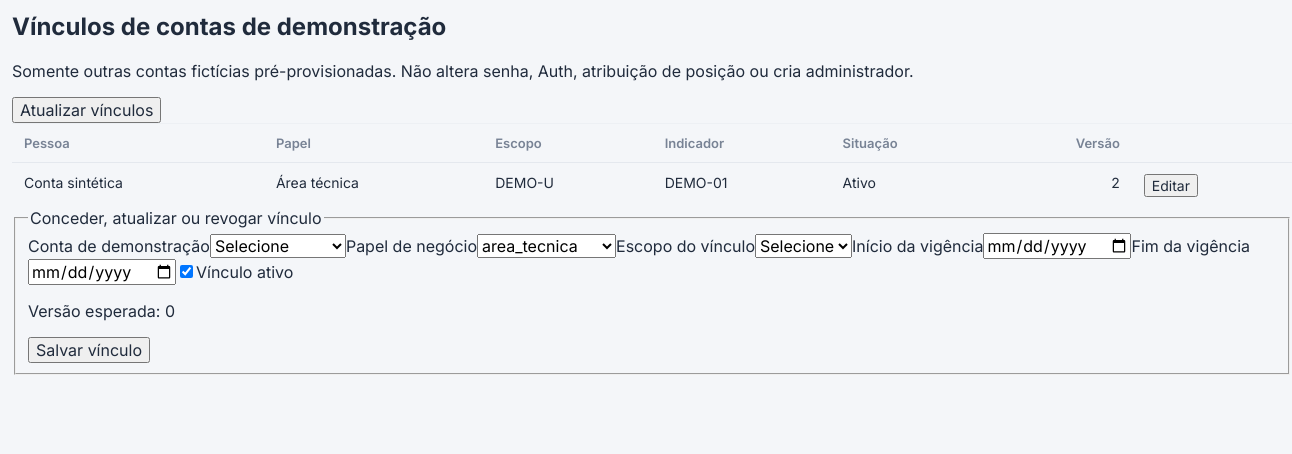
Test: administrative metadata boundary › preserves a revoked ambiguous link attempt, payload and version on retry
The width and height of the screenshot is (1292, 454).
What coordinates should you click on to do the following:
click the button named "Editar vínculo Conta sintética · area_tecnica · DEMO-U"
I would click on:
 (1171, 185)
Its box is [1144, 174, 1198, 197].
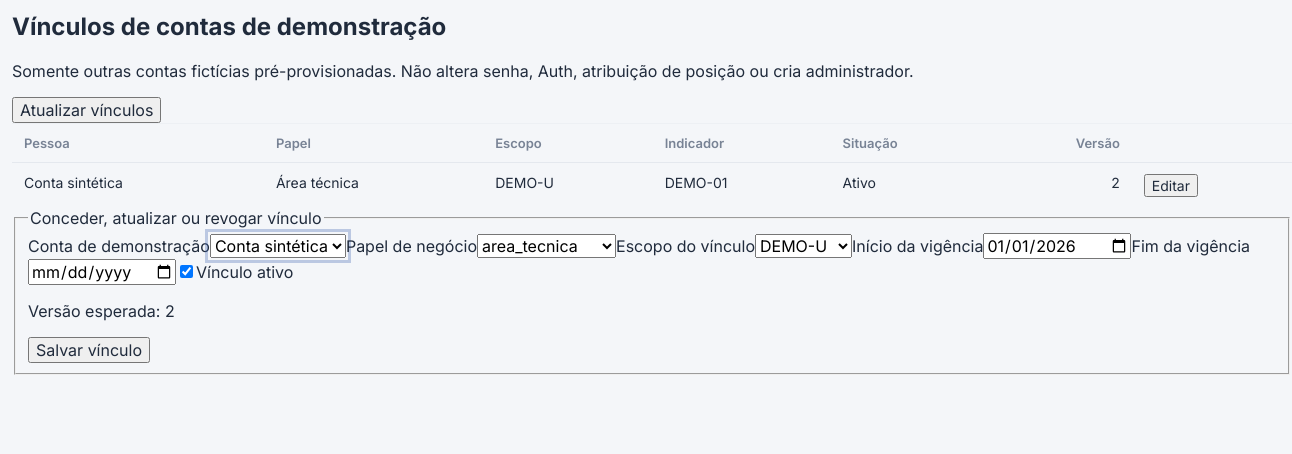
What coordinates should you click on to do the following:
click the checkbox labelled "Vínculo ativo"
I would click on:
 (186, 272)
Its box is [180, 265, 193, 278].
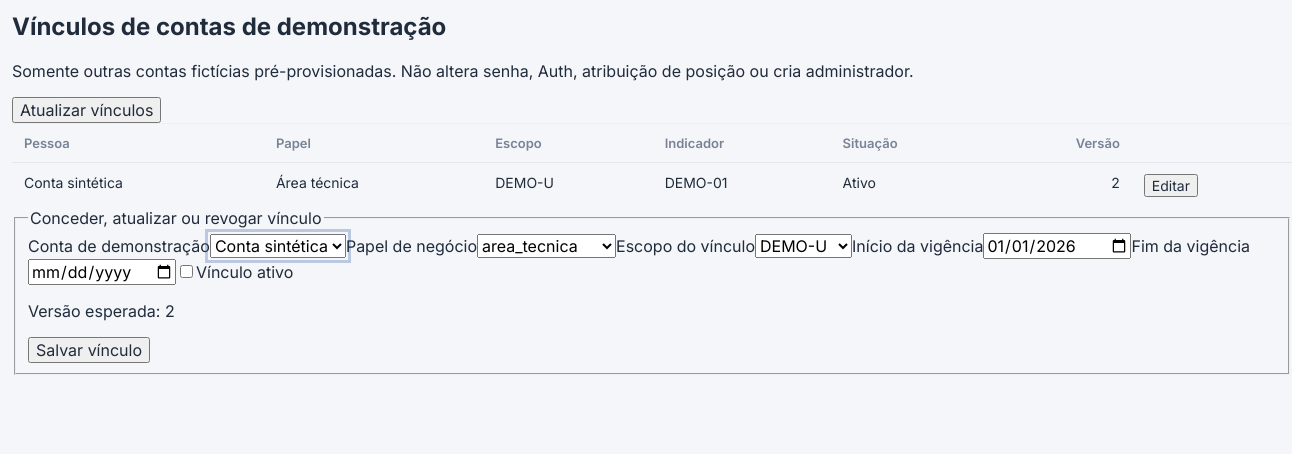
What coordinates should you click on to do the following:
click the button "Salvar vínculo"
I would click on:
 (89, 350)
Its box is [28, 337, 150, 363].
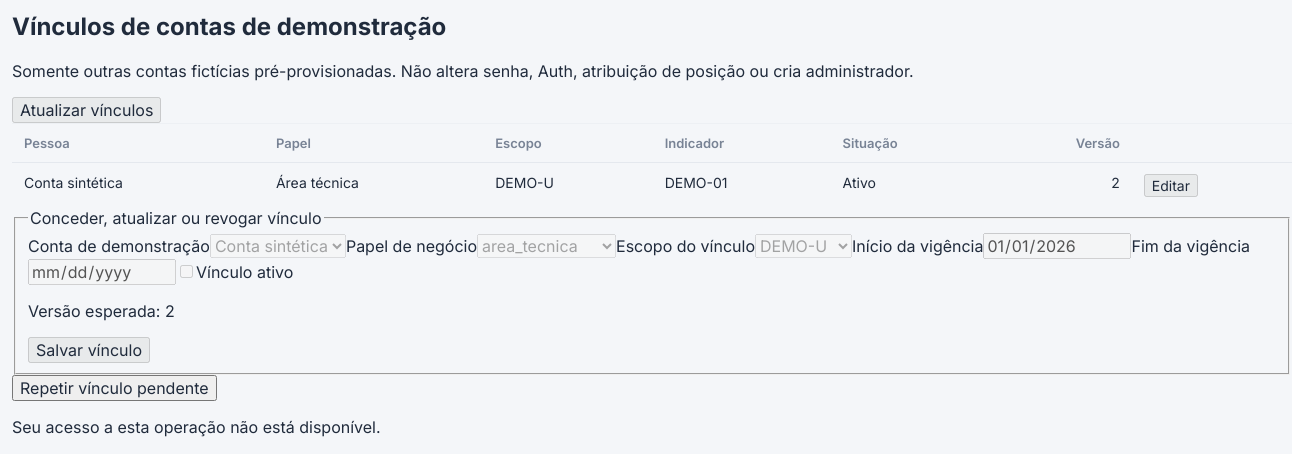
Check: the message reads "Seu acesso a esta operação não está disponível.", box [12, 417, 381, 437]
What coordinates should you click on to do the following:
click the button "Repetir vínculo pendente"
I would click on:
 (114, 388)
Its box is [12, 375, 217, 401].
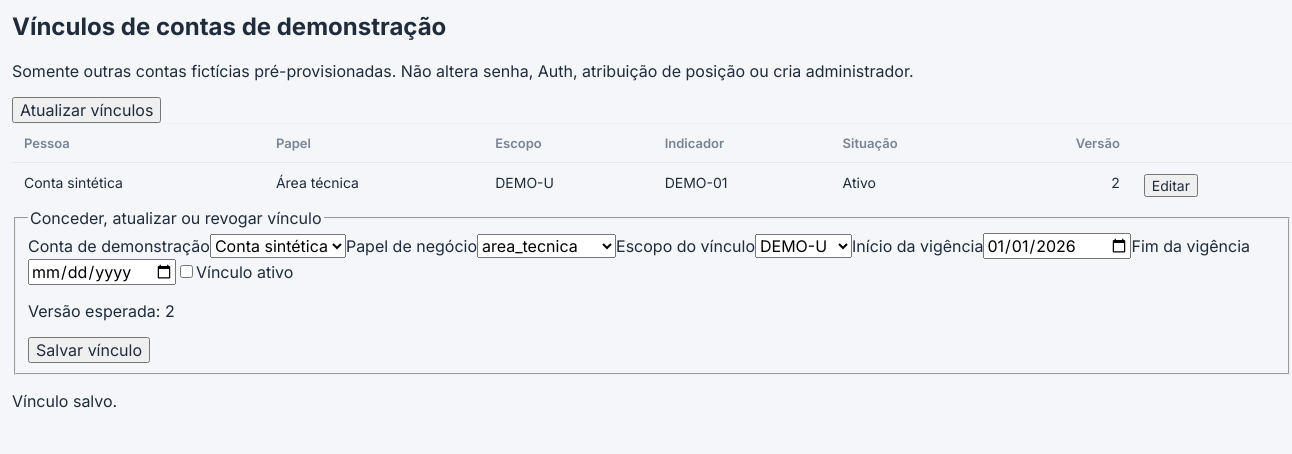
Check: the text "Vínculo salvo." is shown, box [12, 391, 117, 411]
